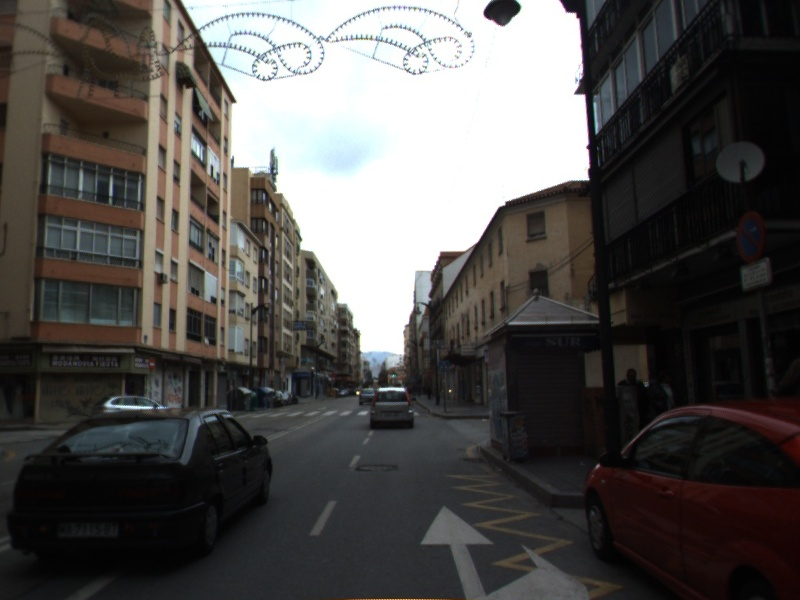STRAIGHT_RIGHT: (417, 501, 595, 600)
